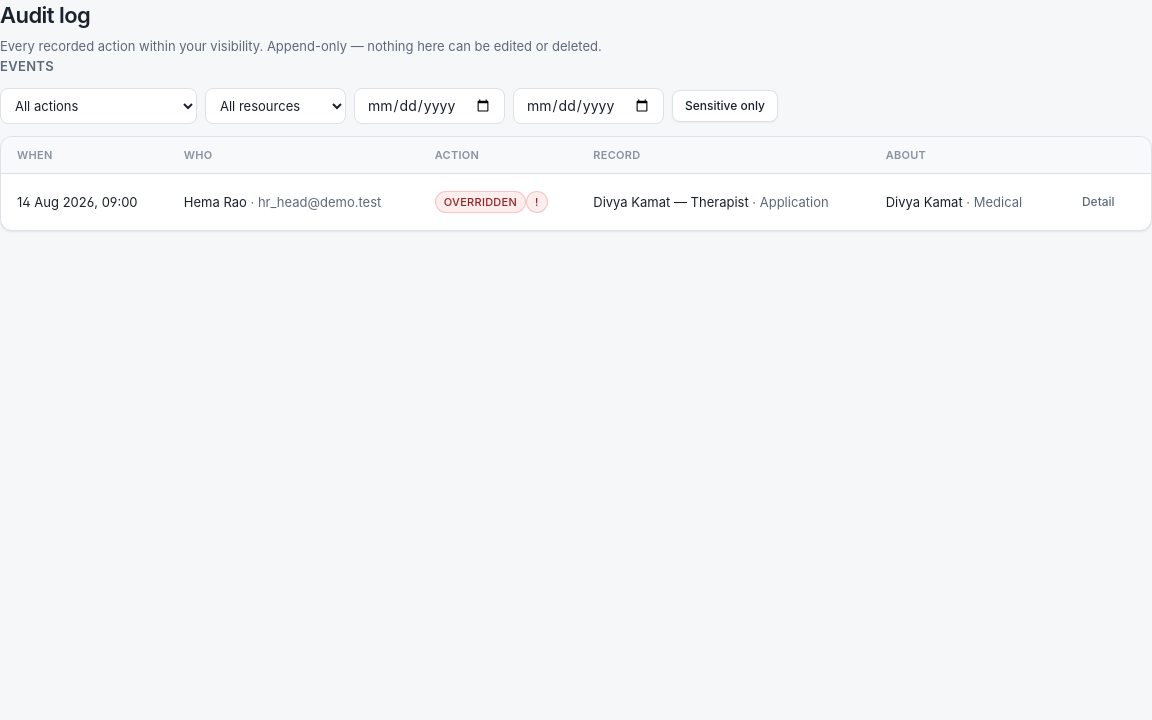
Audit viewer › shows the previous and new values, and never a redacted one
This screenshot has width=1152, height=720.
Step 1. Click the button "Detail" → (1098, 202), box [1070,186,1127,218]
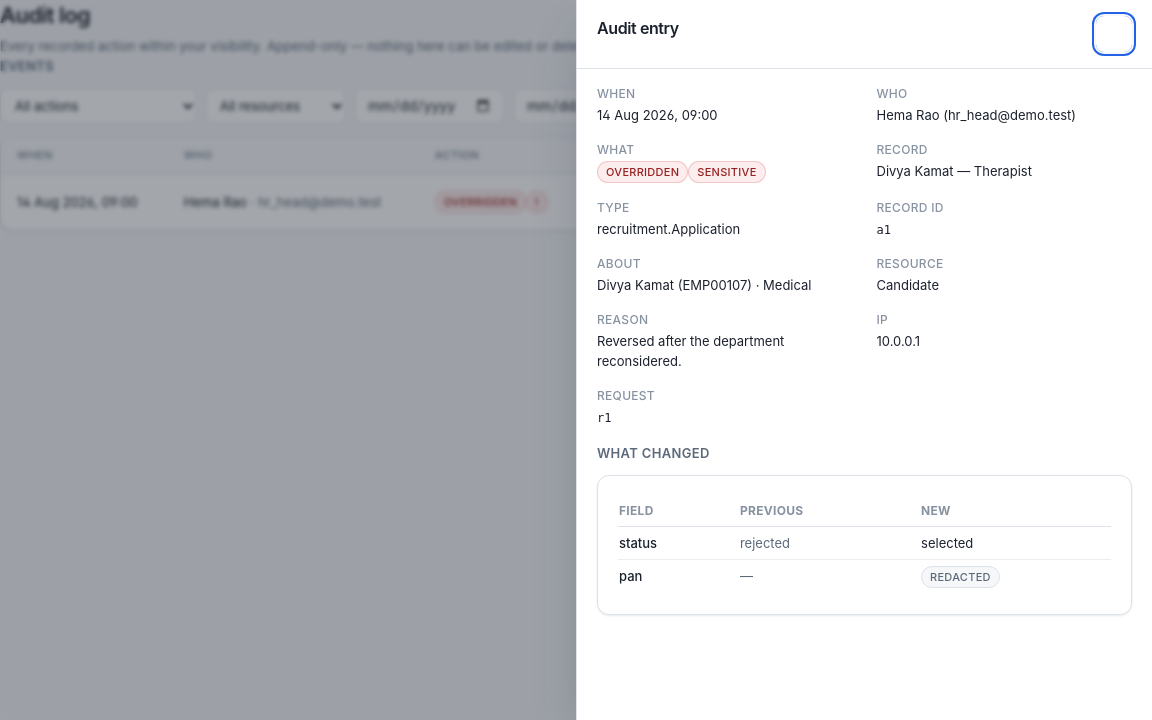
Expected: the text "rejected" is shown, [740,535,790,551]
Expected: the text "selected" is shown, [921,535,973,551]
Expected: the text "redacted" is shown, [921,566,1000,588]
